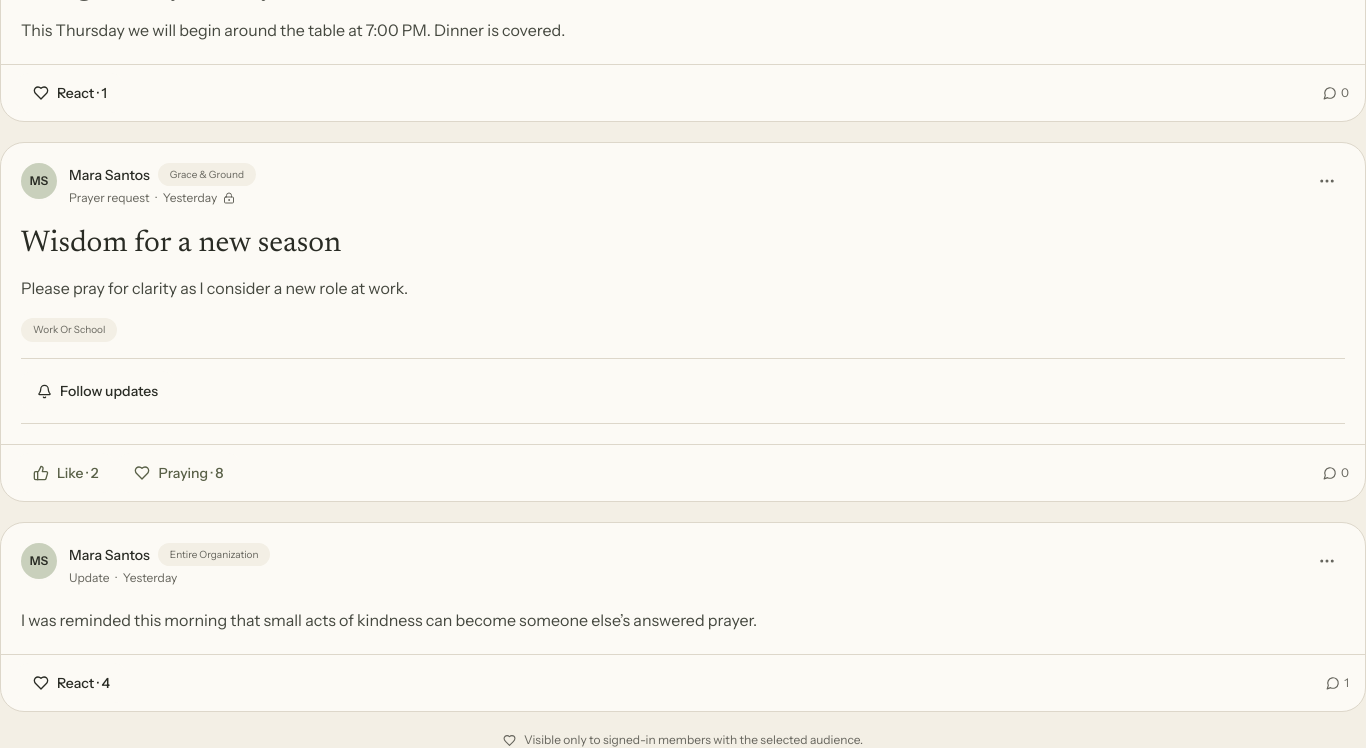
Test: CommunityFeed › keeps member-only actions unavailable to administrators without a person profile
The width and height of the screenshot is (1366, 748).
(page scrolled)
Expected: the button named "choose a reaction" is disabled, [17,663,126,703]
Step 1. Click the button named "Post actions" in the row of "Entire organization" → click(1327, 561), box [1309,543,1345,579]
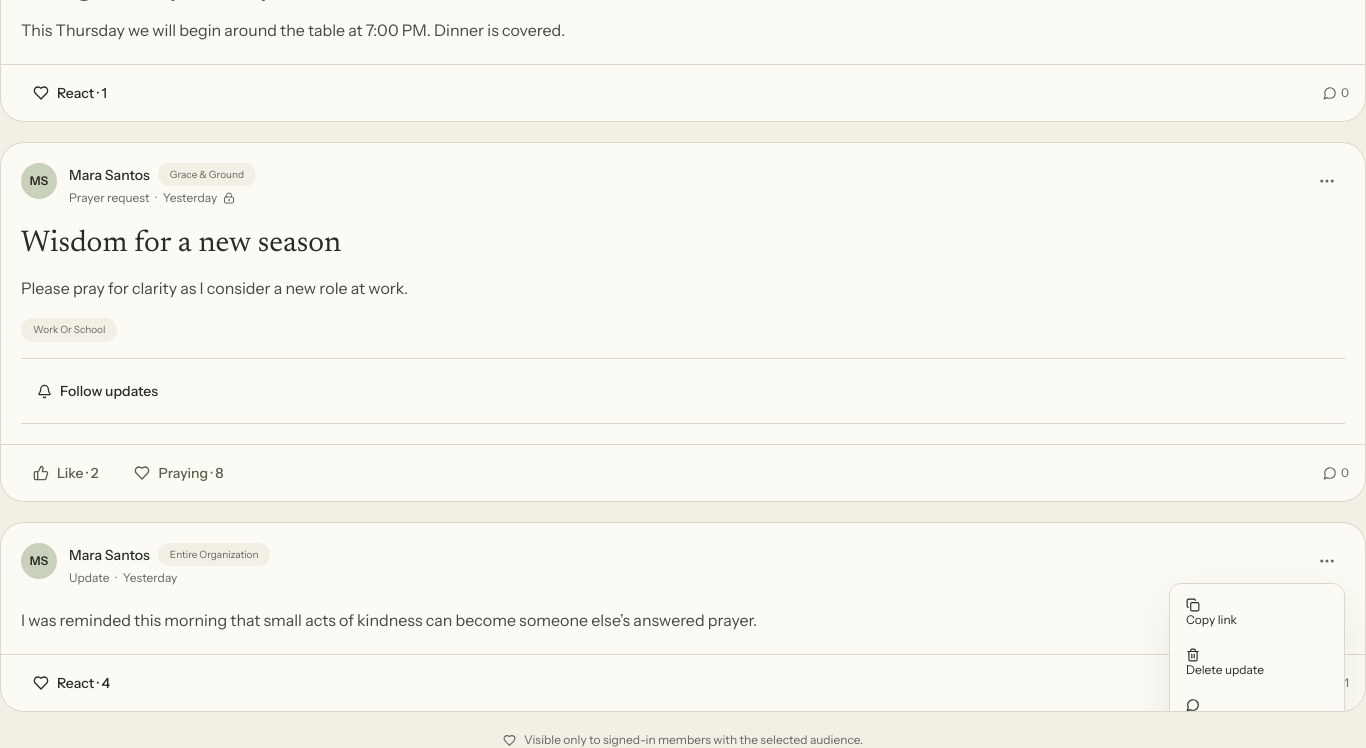
Expected: the menu item "Copy link" is shown, [1170,588,1344,638]
